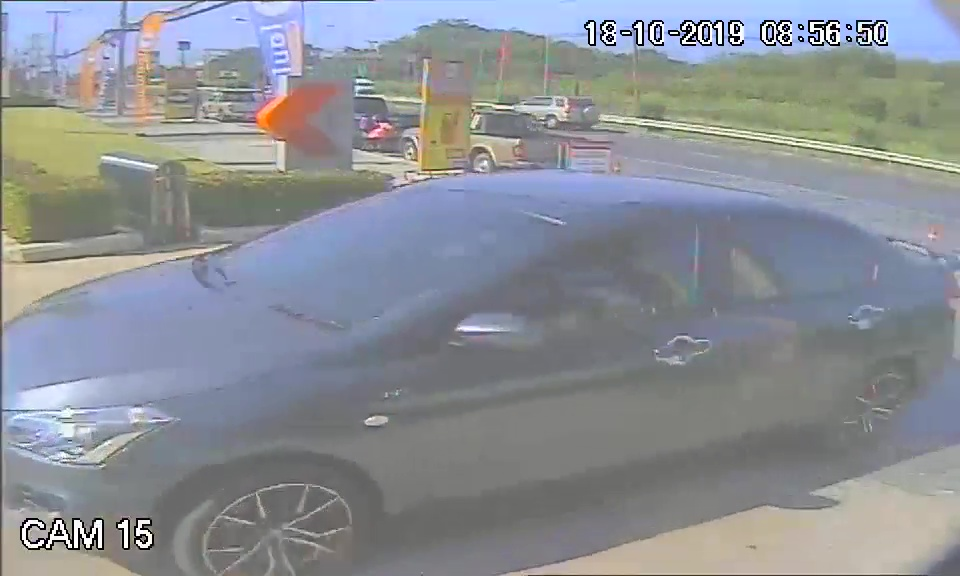sedan: (3, 169, 902, 531)
